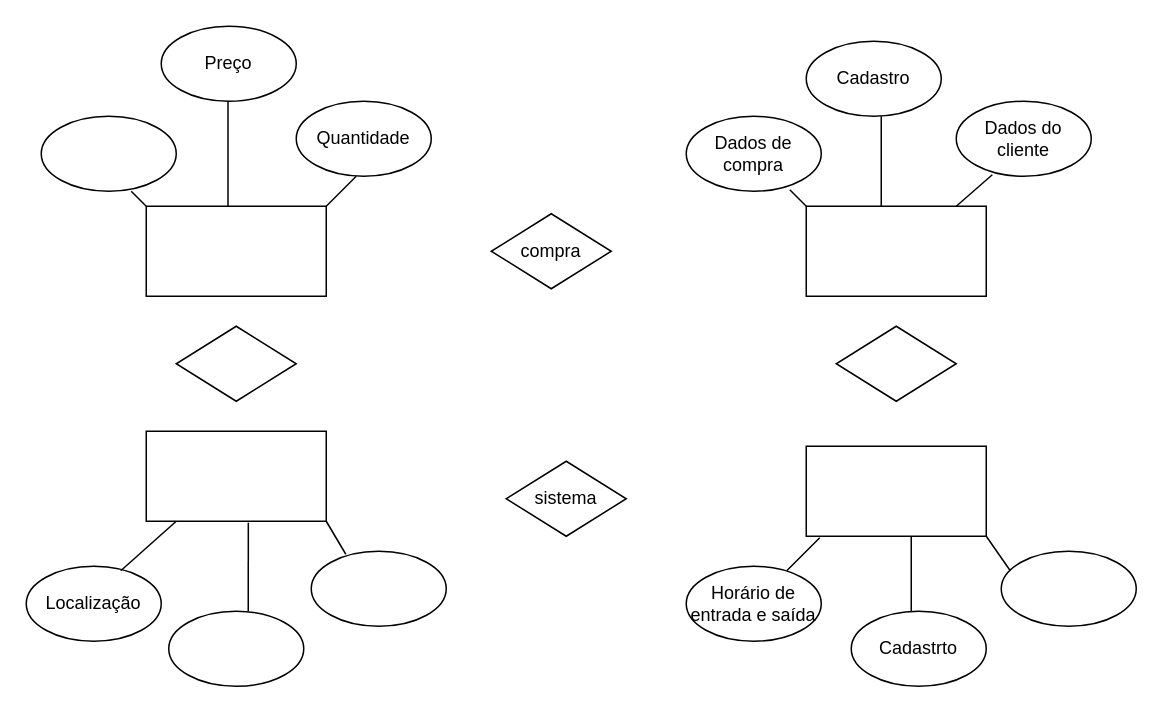
This 1163x713 diagram has some shape labels left out. The box of each missing label's shape, as (x1, y1, x2, y2) in pixels:
CLIENTE: (805, 205, 986, 296)
Descrição: (40, 115, 176, 191)
FUNCIONÁRIO: (805, 445, 986, 536)
LOJA: (145, 430, 326, 521)
PRODUTO: (145, 205, 326, 296)
